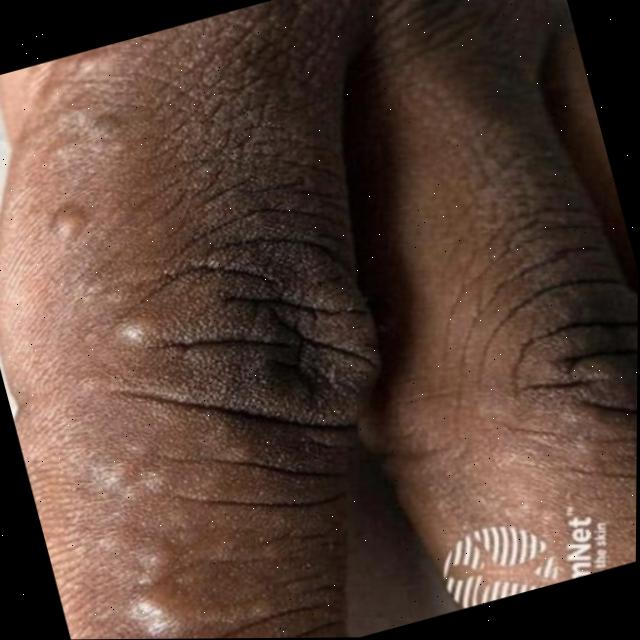Eczema: (0, 45, 260, 640)
